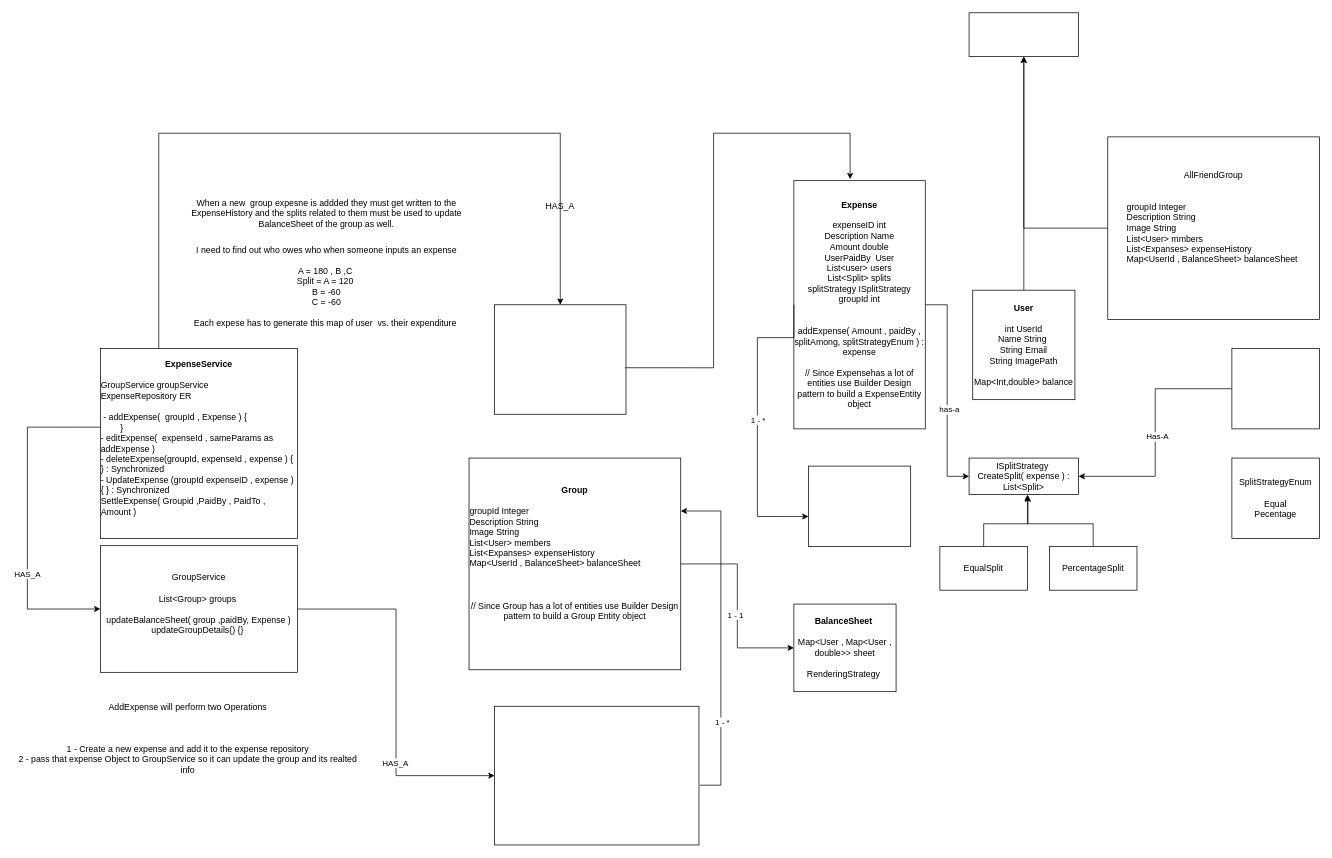
Image size: 1332x858. Some labels were removed from this diagram. Here are the shapes that lost their labels. From the top down, the centre of each, then its label:
At (x=1023, y=34): "IOberserver UpdateBalances".
At (x=560, y=359): "ExpenseRespostory List<Expense> // Perform All Crud Applications".
At (x=1275, y=388): "SplitStrategyFactory".
At (x=859, y=505): "Split UserId int Amout Balance".
At (x=596, y=775): "GroupRepository List<Group> // All CRUD applicatios".
